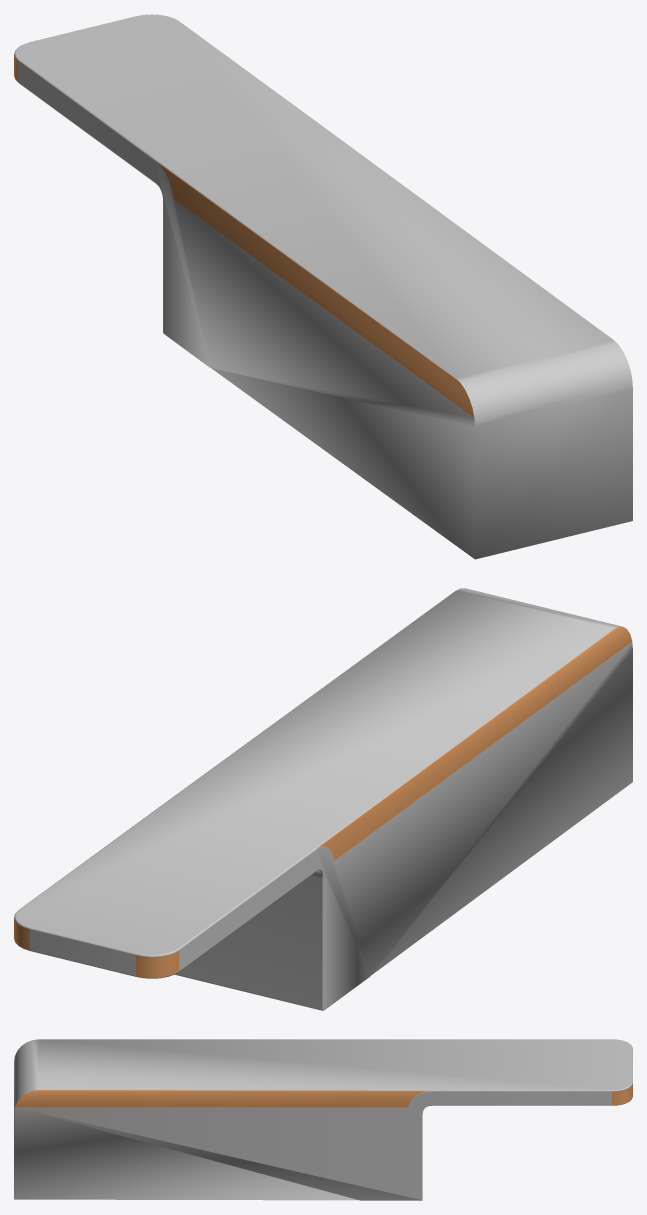
The model's file is register_TableEdit.fbx.
3 renders of one model, top to bottom at view 1: azimuth 30°, elevation 25°; view 2: azimuth 150°, elevation 25°; view 3: azimuth 270°, elevation 25°, orthographic. The views are drawn at different scales.
Visible parts, largest first — view 1: Desk; view 2: Desk; view 3: Desk.
Part boxes in pixels (box(x1,y1,x2,y2)): Desk: box(14, 14, 632, 559); Desk: box(14, 588, 632, 1010); Desk: box(14, 1039, 632, 1200).
Size of the model in its own units: 200 by 200 by 1013.
